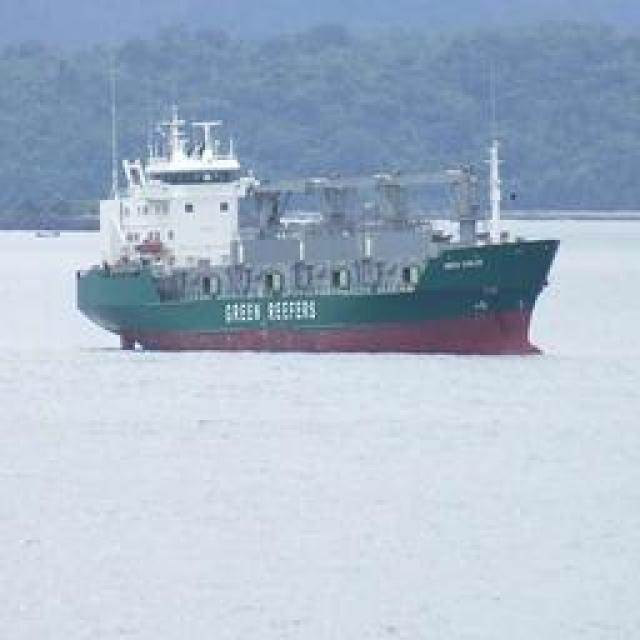CIV_Ship: (76, 104, 564, 354)
